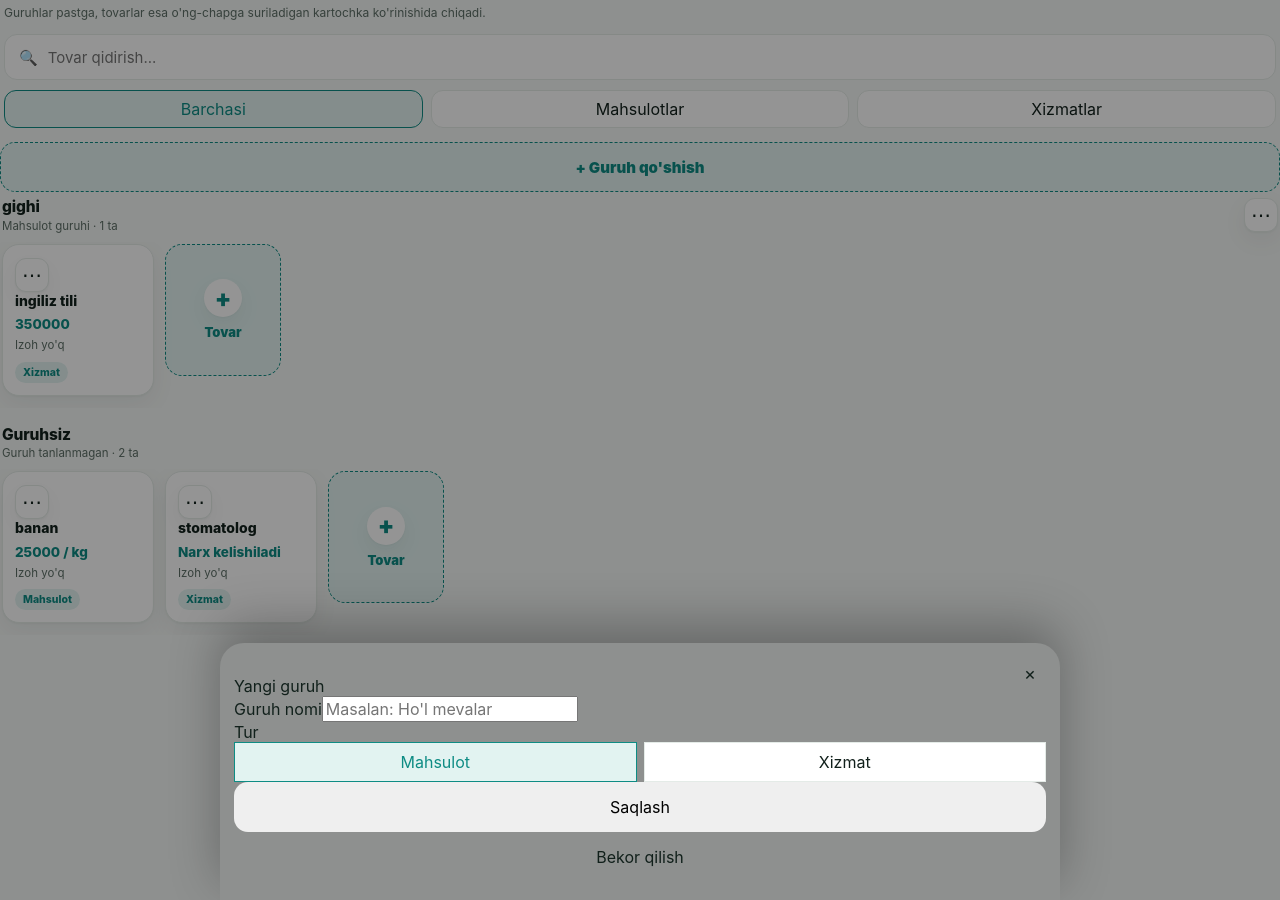
Test: v1656 mahsulot va xizmatlar pariteti › bo'sh guruh nomida monolitdagi xatoni ko'rsatadi
The width and height of the screenshot is (1280, 900).
Click the button "Saqlash" at (640, 807), box x1=234 y1=782 x2=1046 y2=832
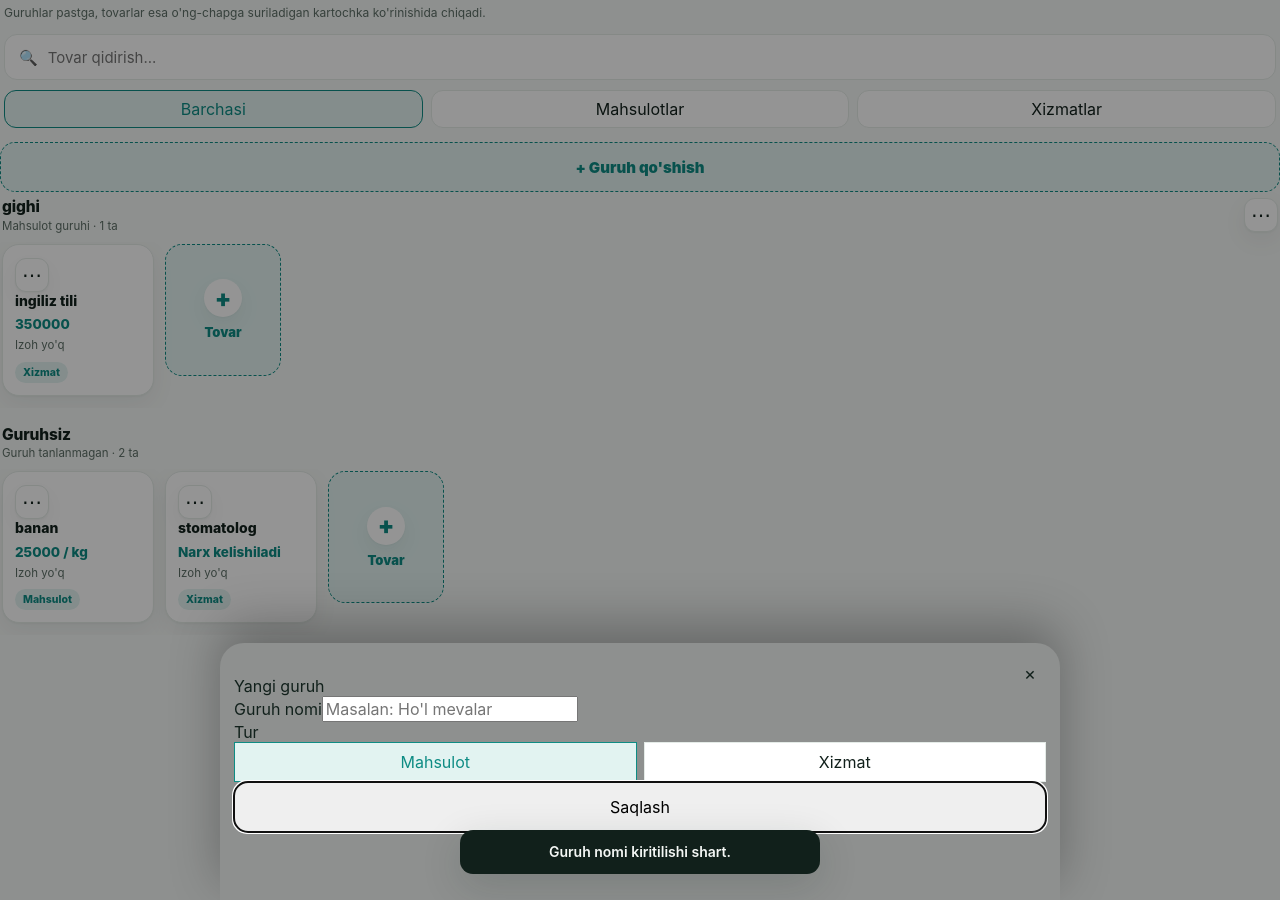
Now the message reads "Guruh nomi kiritilishi shart.", box x1=549 y1=843 x2=731 y2=860
